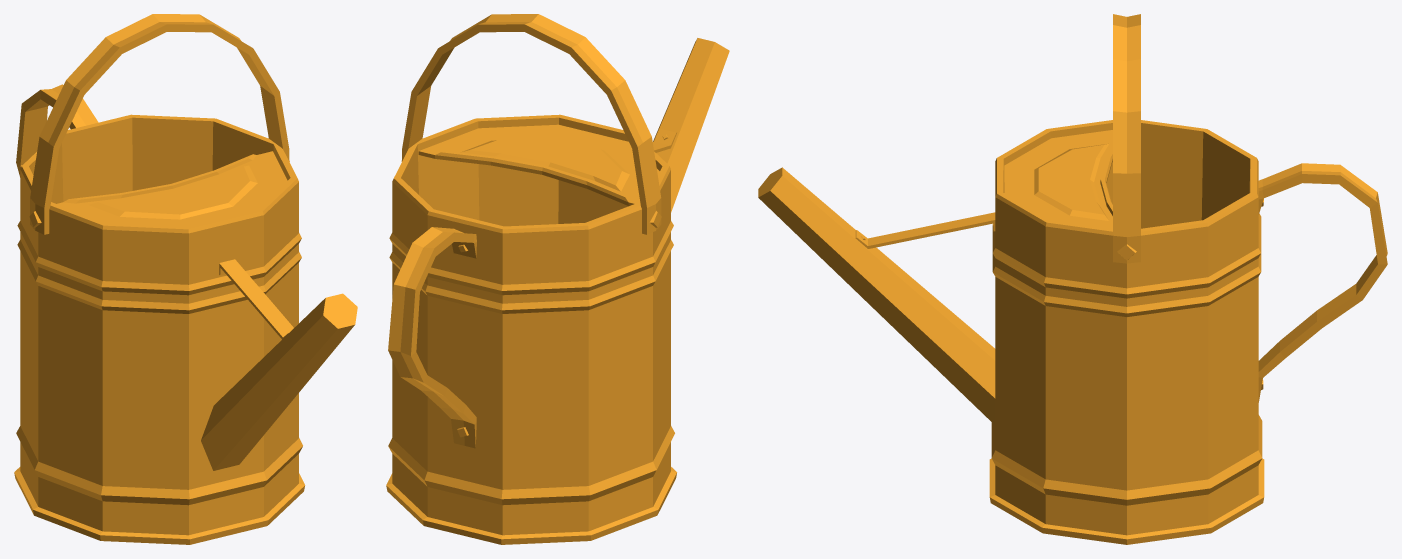
File: SM_Can_Watering_Metal_A.fbx
The picture shows the model from 3 angles, left to right: view 1: azimuth 30°, elevation 25°; view 2: azimuth 150°, elevation 25°; view 3: azimuth 270°, elevation 25°; orthographic projection.
Parts seen in each view (by area): view 1: can-watering-metal-a; view 2: can-watering-metal-a; view 3: can-watering-metal-a.
Boxes of the visible parts, box(x1,y1,x2,y2) form: can-watering-metal-a: box(14, 14, 357, 544); can-watering-metal-a: box(386, 14, 729, 544); can-watering-metal-a: box(758, 14, 1387, 544).
Bounding box in the file's own units: 0.2847 × 0.4999 × 0.6208.
